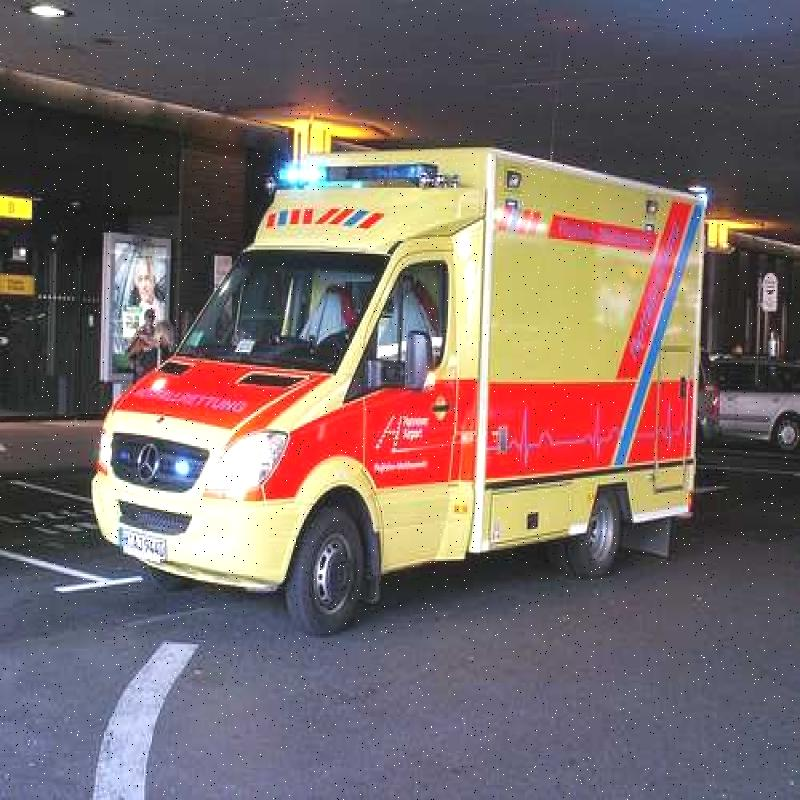AmbulanceSiren: (255, 124, 491, 218)
